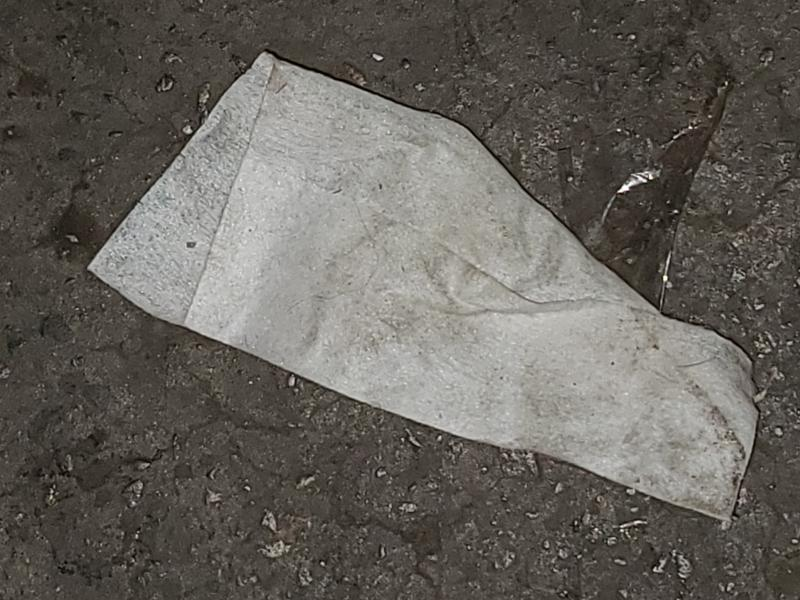papel: (87, 52, 758, 526)
